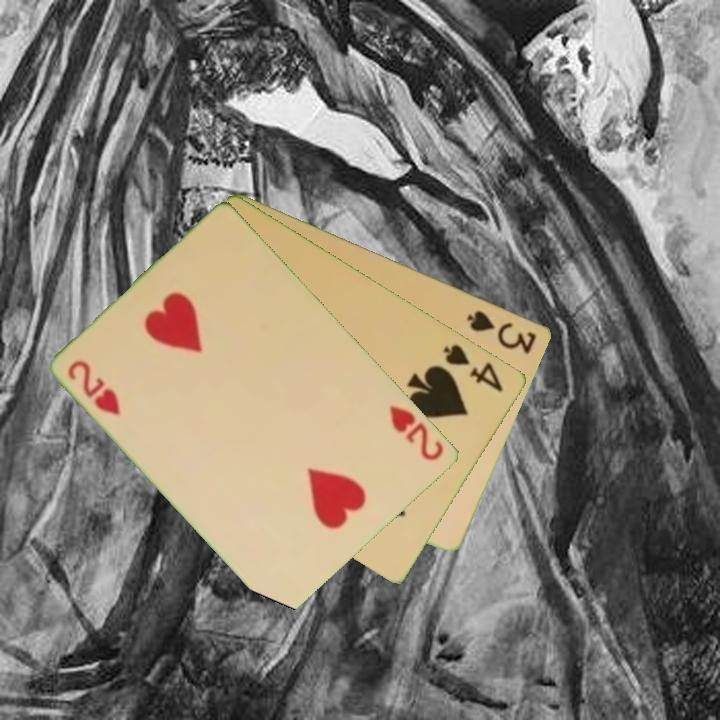2h: (386, 401, 447, 464), (64, 356, 124, 419)
3s: (463, 306, 540, 357)
4s: (440, 340, 507, 395)
